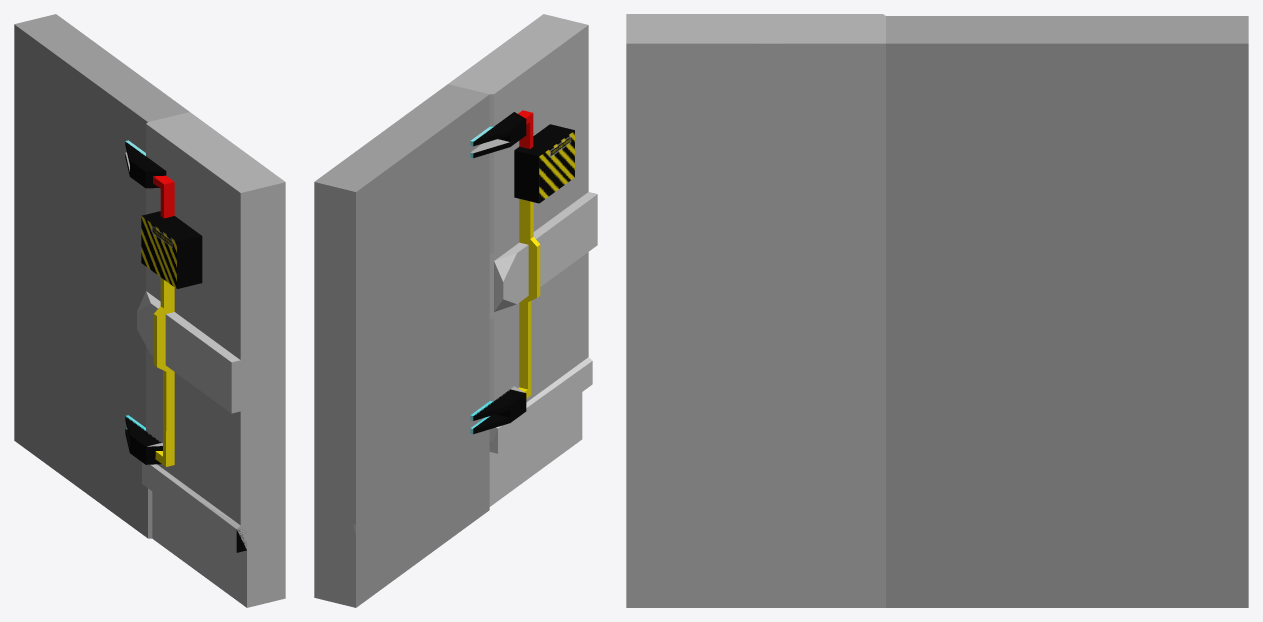
Rendered from ShieldGen2.fbx.
The picture shows the model from 3 angles, left to right: view 1: azimuth 30°, elevation 25°; view 2: azimuth 150°, elevation 25°; view 3: azimuth 270°, elevation 25°; orthographic projection. The views are drawn at different scales.
Visible parts, largest first — view 1: pCube19; view 2: pCube19; view 3: pCube19.
Boxes of the visible parts, box(x1,y1,x2,y2) form: pCube19: box(14, 14, 285, 607); pCube19: box(314, 14, 597, 607); pCube19: box(626, 14, 1248, 607).
Size of the model in its own units: 176 by 1000 by 1000.
